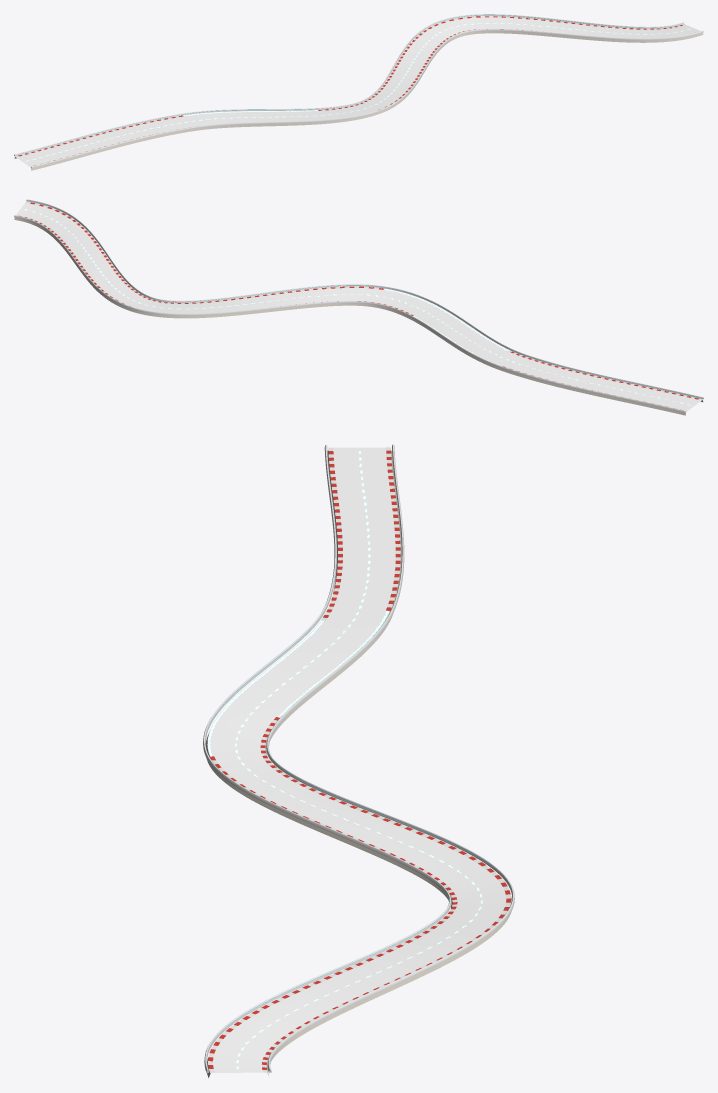
Rendered from SM_FutureCity_Track_01.fbx.
3 renders of one model, top to bottom at view 1: azimuth 30°, elevation 25°; view 2: azimuth 150°, elevation 25°; view 3: azimuth 270°, elevation 25°, orthographic. The views are drawn at different scales.
Visible parts, largest first — view 1: SM_FutureCity_Track_01; view 2: SM_FutureCity_Track_01; view 3: SM_FutureCity_Track_01.
Part boxes in pixels (x1,y1,x2,y2): SM_FutureCity_Track_01: (14, 14, 703, 170); SM_FutureCity_Track_01: (14, 199, 703, 415); SM_FutureCity_Track_01: (203, 444, 514, 1077).
Bounding box in the file's own units: 38860 × 364 × 8160.
